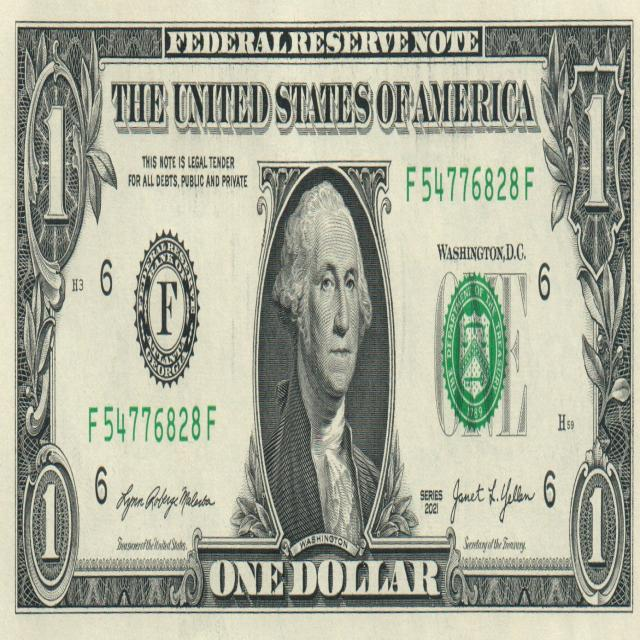SerialNumber: (89, 406, 215, 442), (407, 166, 533, 202)
